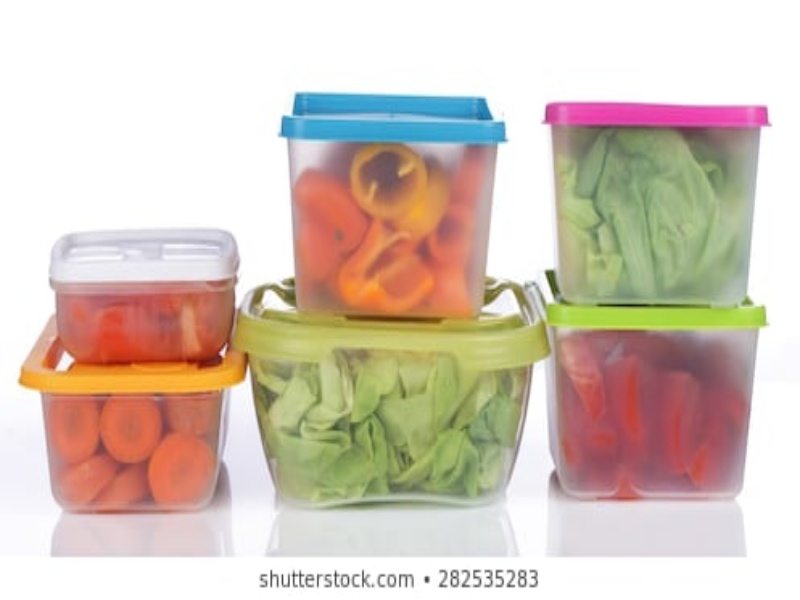plastic-container: (237, 280, 547, 508), (281, 86, 509, 324), (542, 95, 772, 305), (538, 294, 767, 500), (19, 303, 239, 515), (47, 218, 238, 366)
